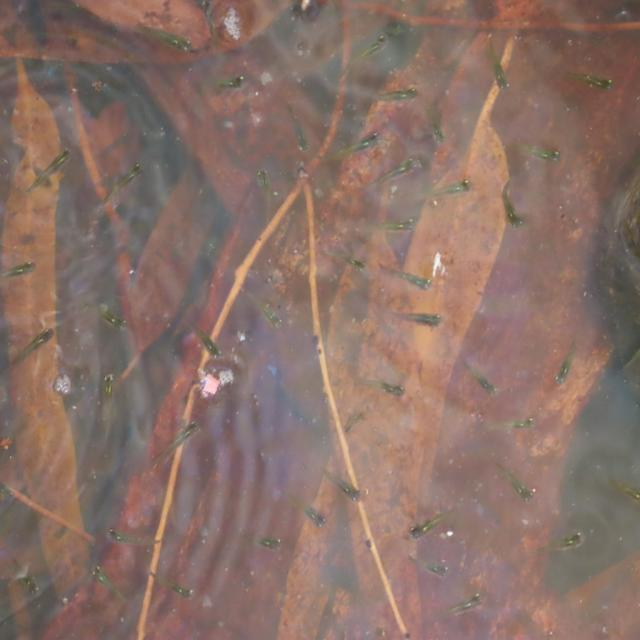Sivrisinek Baligi: (2, 2, 637, 638), (17, 138, 82, 203), (3, 313, 59, 383), (425, 582, 489, 632), (139, 11, 200, 60), (147, 414, 200, 470), (400, 495, 464, 540), (99, 512, 166, 554), (94, 160, 146, 210), (530, 523, 592, 564), (379, 250, 436, 294), (493, 456, 539, 510), (289, 482, 330, 542), (82, 286, 130, 337), (482, 30, 515, 104), (315, 458, 367, 504), (148, 562, 201, 607), (92, 555, 131, 615), (515, 122, 561, 172), (319, 228, 366, 276), (360, 204, 422, 240), (419, 165, 472, 207), (486, 401, 545, 437), (182, 316, 225, 365), (383, 304, 455, 332), (254, 155, 282, 226), (244, 282, 282, 334), (355, 358, 402, 400), (238, 520, 287, 560), (280, 96, 310, 160), (499, 170, 527, 238), (405, 550, 455, 588), (460, 350, 502, 395), (0, 252, 45, 292), (566, 59, 613, 97), (204, 68, 256, 98), (548, 339, 576, 391)
